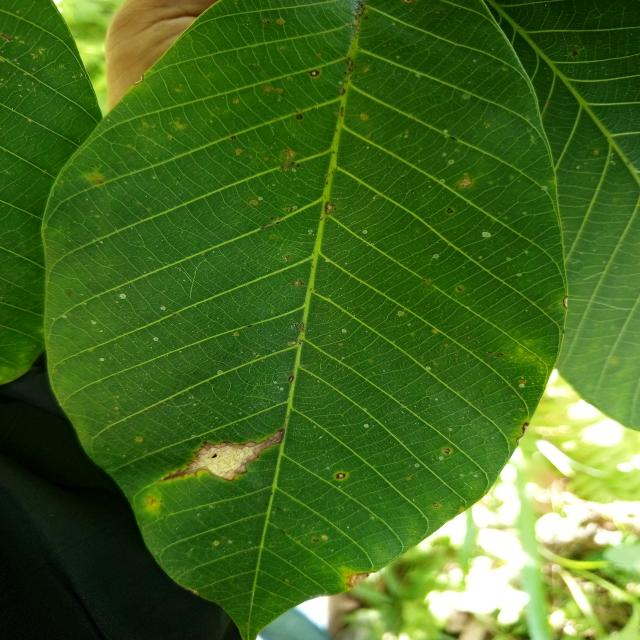Colletotrichum: (337, 473, 345, 479), (446, 208, 454, 214), (288, 376, 294, 382), (466, 335, 472, 340), (433, 503, 439, 507), (498, 353, 503, 357)
Corynespora: (162, 430, 284, 481)
Leaf-Blight: (564, 297, 568, 308)
